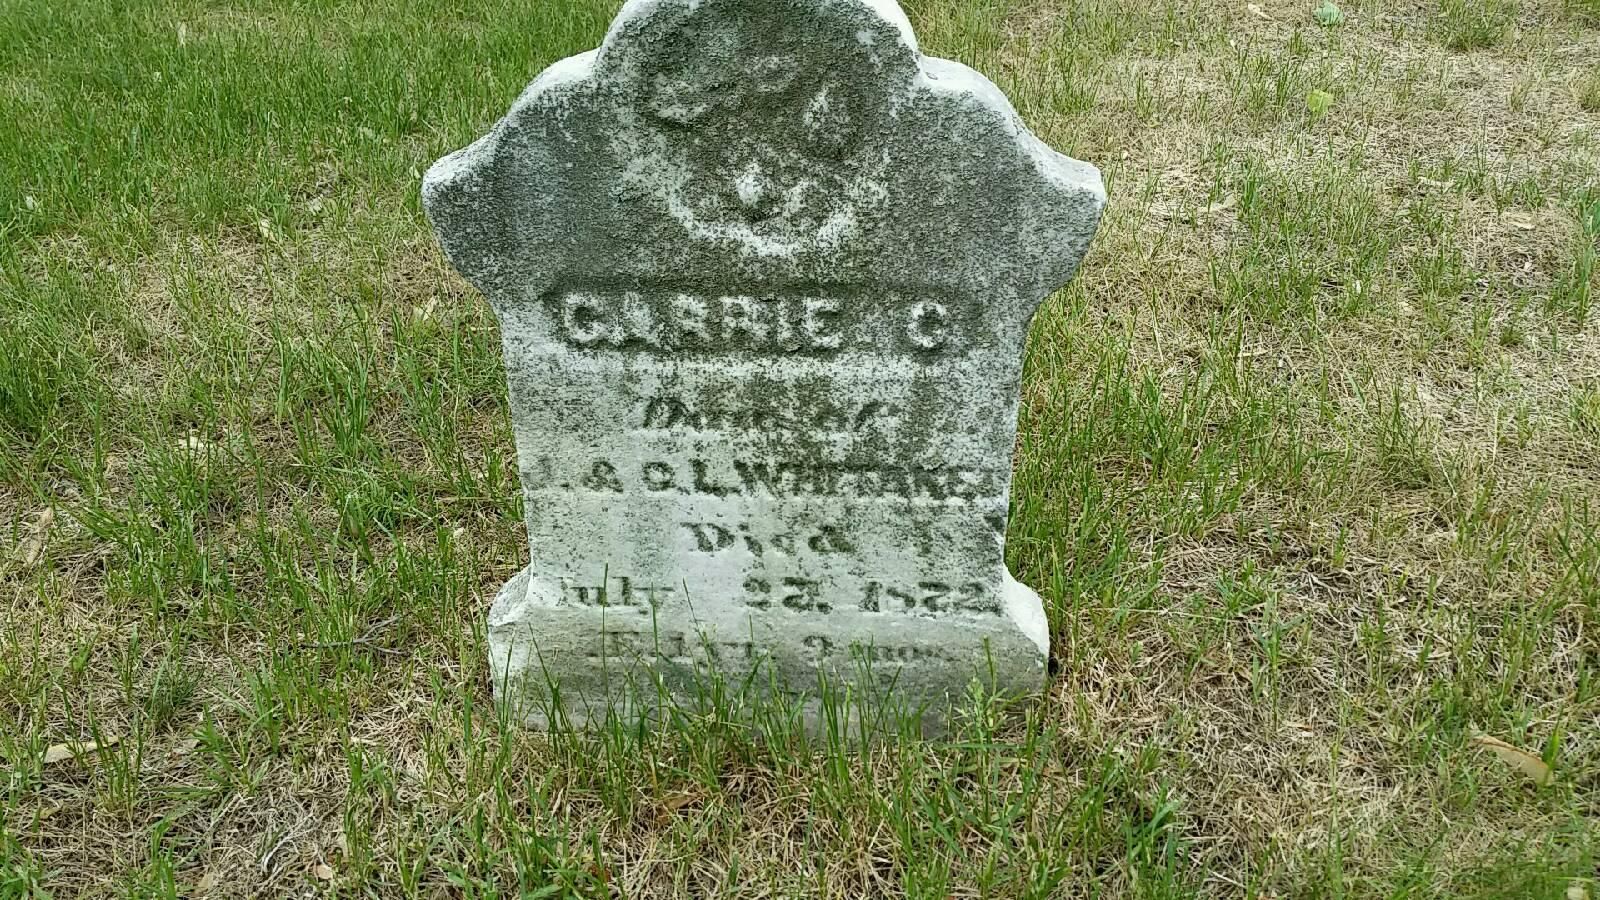upright: (424, 0, 1105, 724)
